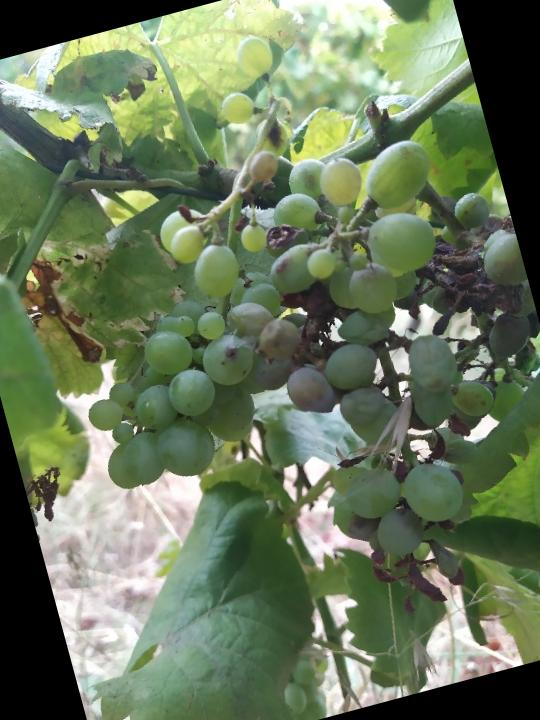grape: (140, 84, 540, 658)
